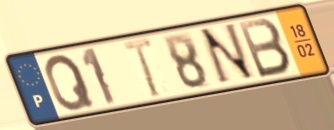1: (80, 45, 119, 108)
8: (163, 32, 210, 91)
B: (235, 16, 294, 81)
N: (197, 21, 260, 88)
Q: (43, 52, 98, 114)
T: (120, 36, 162, 101)
